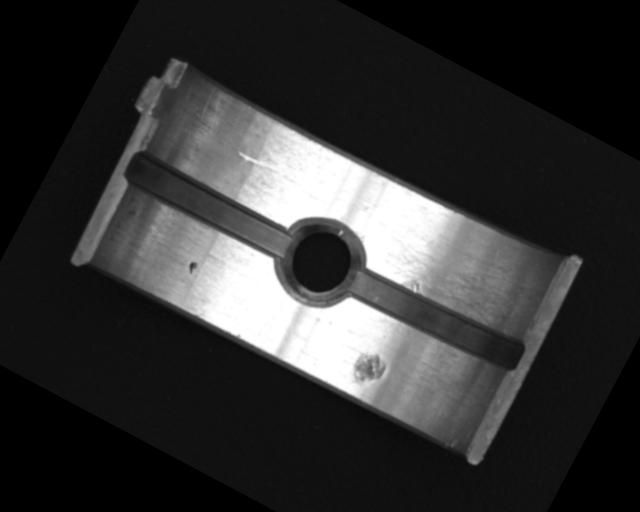bruise: (348, 345, 393, 394), (183, 258, 200, 277)
gap: (339, 253, 529, 381), (121, 147, 300, 265)
hole: (264, 204, 376, 320)
nick: (235, 142, 298, 185)
scratch: (356, 195, 541, 343)
